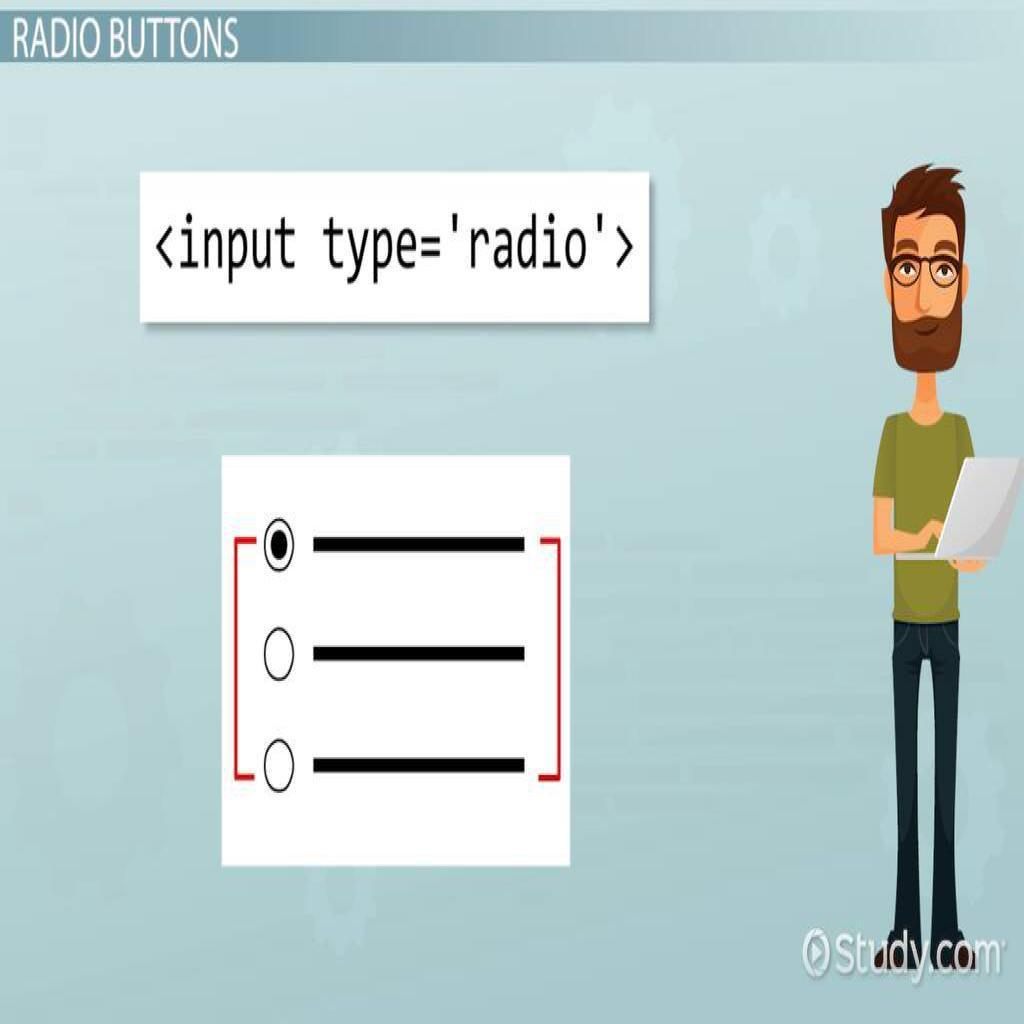radio: (261, 517, 299, 577), (260, 740, 299, 793), (264, 625, 299, 682)
